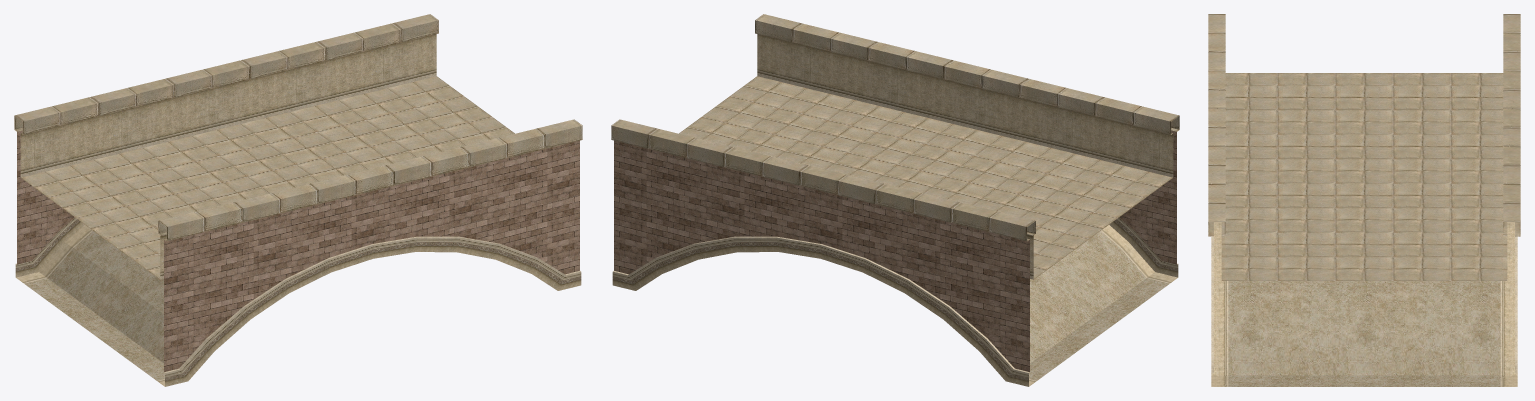
Rendered from thm_nboo_imprv_street_bridge_s01_l0.fbx.
The picture shows the model from 3 angles, left to right: view 1: azimuth 30°, elevation 25°; view 2: azimuth 150°, elevation 25°; view 3: azimuth 270°, elevation 25°; orthographic projection. The views are drawn at different scales.
Parts seen in each view (by area): view 1: mesh_node; view 2: mesh_node; view 3: mesh_node.
Boxes of the visible parts, bbox=[...] form: mesh_node: bbox=[14, 14, 582, 386]; mesh_node: bbox=[611, 14, 1179, 386]; mesh_node: bbox=[1208, 14, 1520, 386].
Size of the model in its own units: 8.5 by 3.14 by 5.39.
4 materials, 4 textured.
